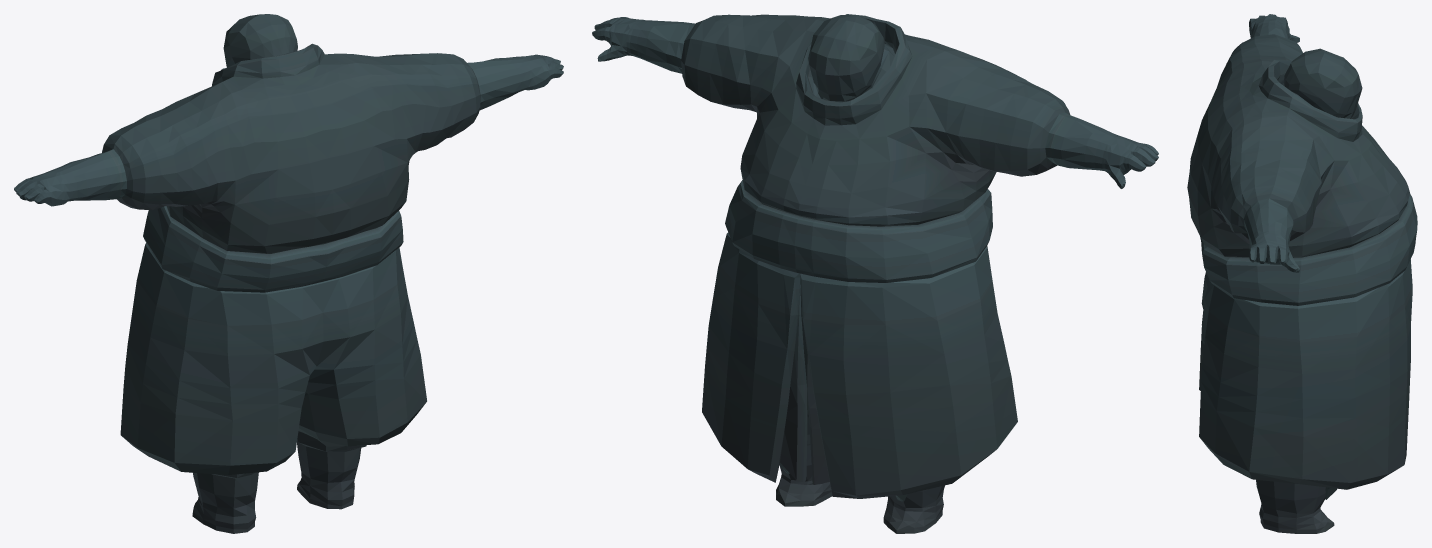
File: CharSkyNPC_Body_AP08Lion.glb
3 views of the same model, side by side, from view 1: azimuth 30°, elevation 25°; view 2: azimuth 150°, elevation 25°; view 3: azimuth 270°, elevation 25° (orthographic). The views are drawn at different scales.
Parts seen in each view (by area): view 1: CharSkyNPC_Body_AP08Lion; view 2: CharSkyNPC_Body_AP08Lion; view 3: CharSkyNPC_Body_AP08Lion.
Part boxes in pixels (x1,y1,x2,y2): CharSkyNPC_Body_AP08Lion: [14, 14, 563, 533]; CharSkyNPC_Body_AP08Lion: [592, 14, 1158, 533]; CharSkyNPC_Body_AP08Lion: [1187, 14, 1417, 533].
Size of the model in its own units: 17.69 by 14.97 by 6.98.
1 material, 1 textured.
